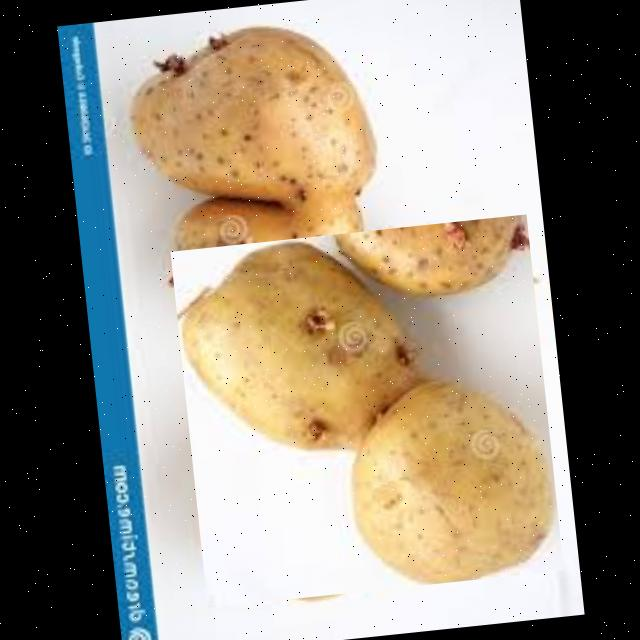Damaged potato: (169, 214, 562, 607), (114, 11, 396, 333)
